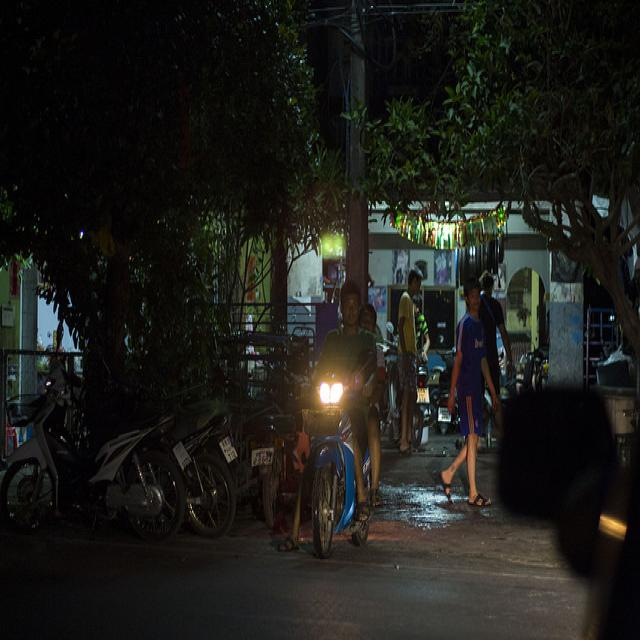Motorbike: (18, 367, 231, 547), (282, 367, 406, 593), (179, 396, 297, 527)
People: (454, 262, 491, 569), (388, 242, 428, 480), (483, 252, 524, 412), (328, 273, 364, 394), (347, 296, 391, 381)
